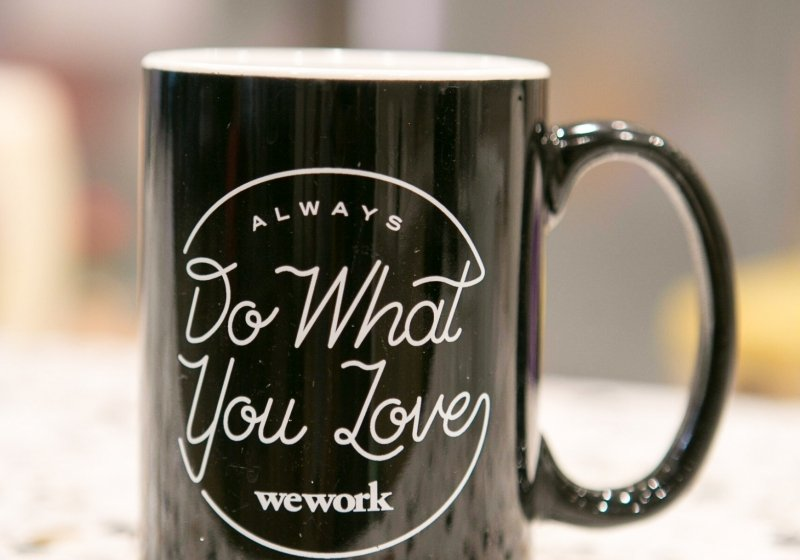wework: (251, 478, 398, 516)
